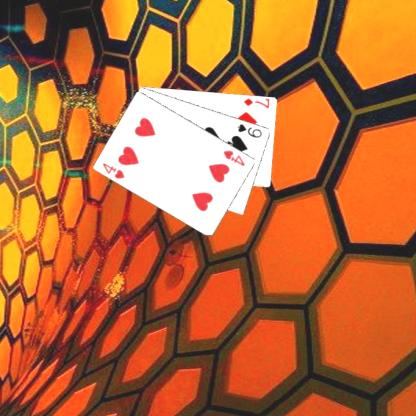4H: (221, 147, 246, 168), (100, 160, 126, 180)
7D: (241, 96, 271, 109)
9S: (235, 121, 263, 139)
